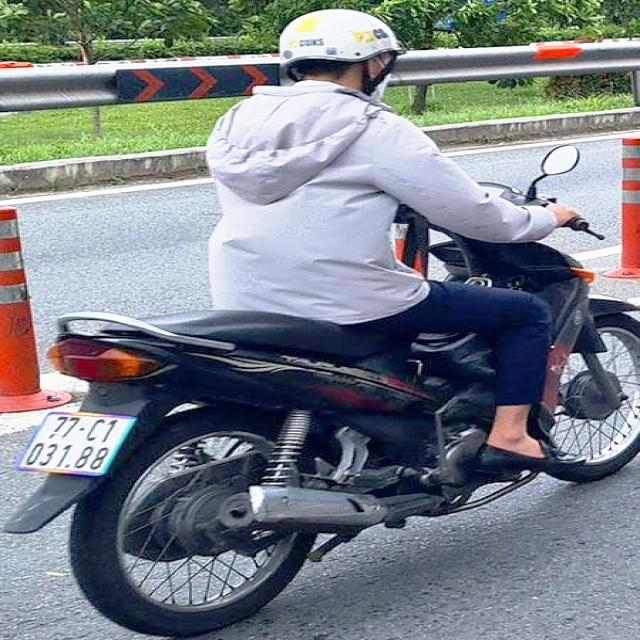license_plate: (17, 412, 136, 477)
